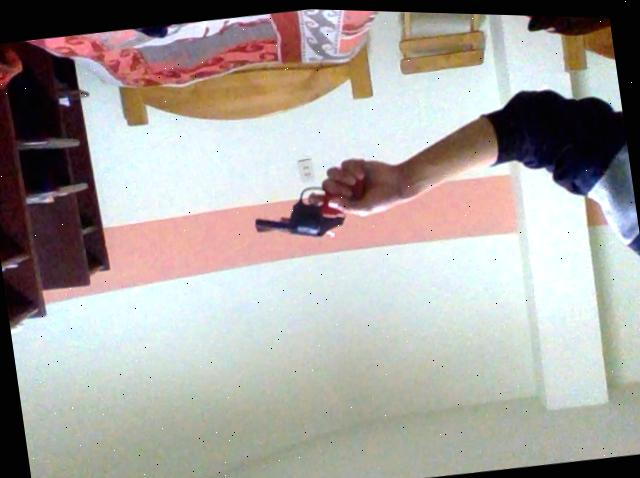pistol: (208, 129, 422, 294)
